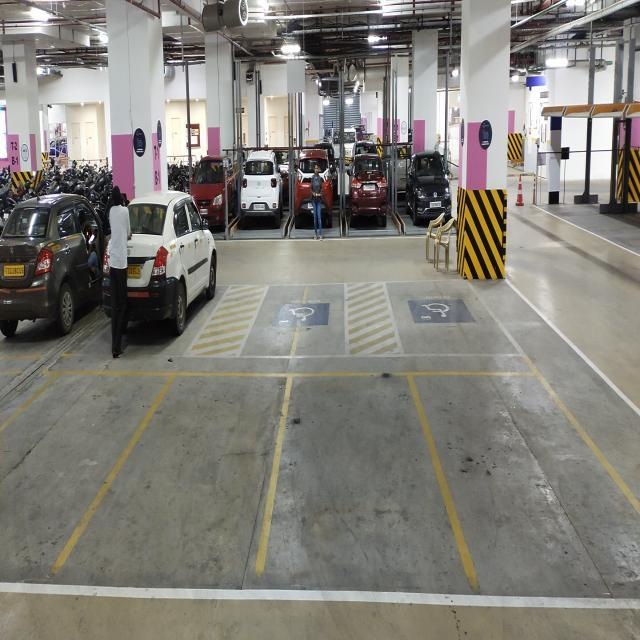car: (4, 210, 85, 335), (106, 215, 186, 338)
free: (439, 369, 640, 588), (274, 362, 438, 584), (128, 361, 269, 574), (2, 361, 115, 574)
